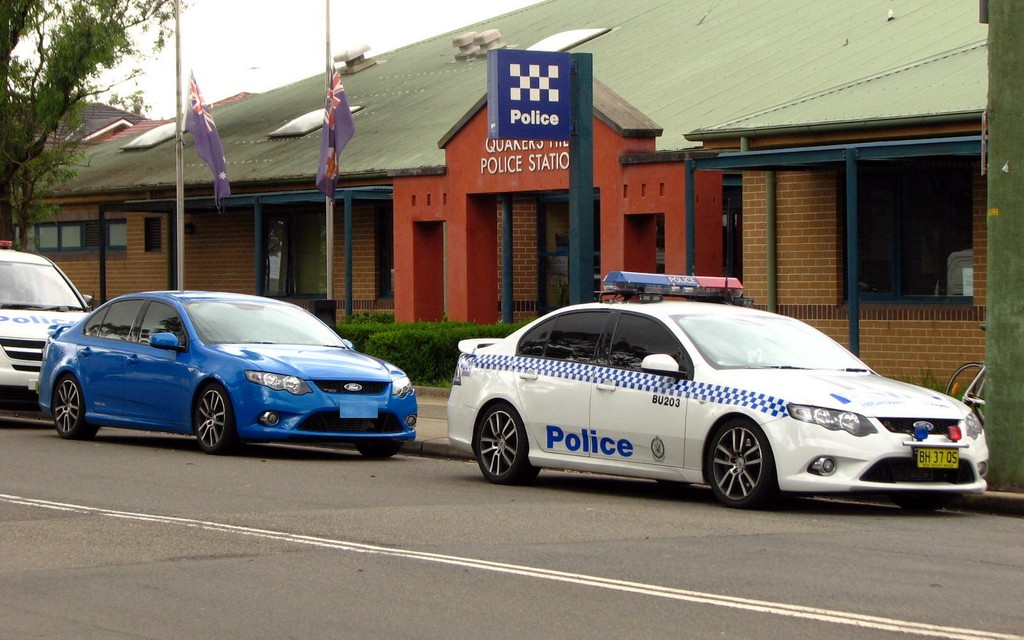Car: (411, 286, 1000, 511), (39, 273, 416, 448), (0, 238, 87, 405)
